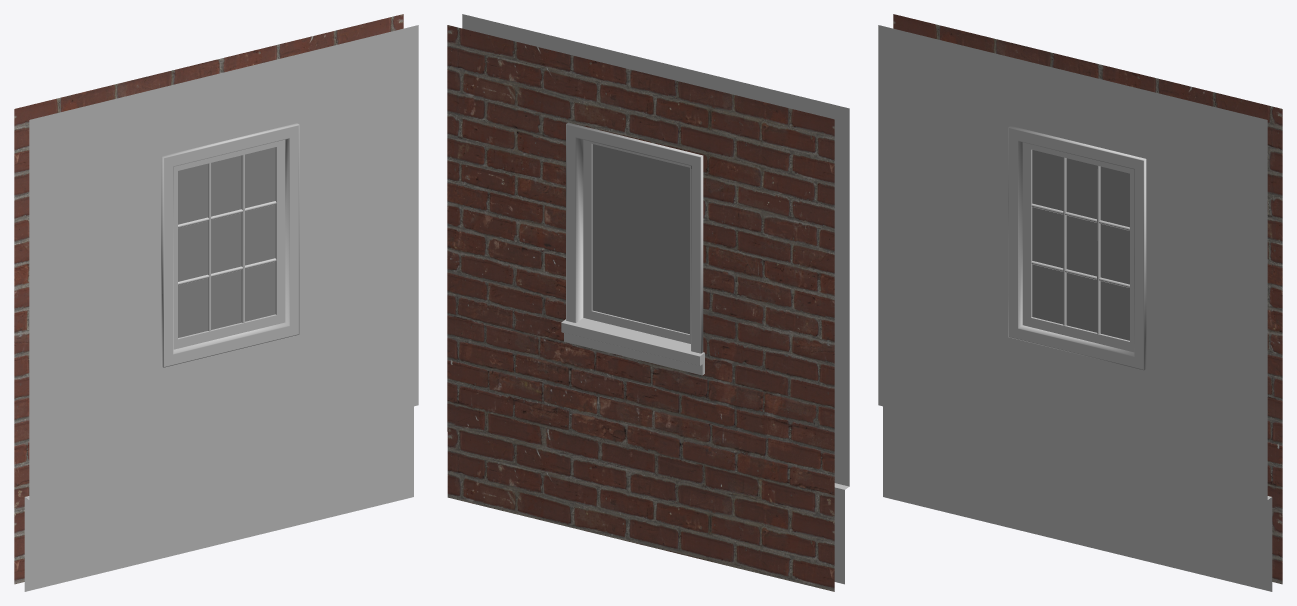
Rendered from In_WallDown_Window_Single_B_3x.FBX.
3 renders of one model, left to right at view 1: azimuth 30°, elevation 25°; view 2: azimuth 150°, elevation 25°; view 3: azimuth 330°, elevation 25°, orthographic.
Visible parts, largest first — view 1: WallDown_Window_Single_B_3x; view 2: WallDown_Window_Single_B_3x; view 3: WallDown_Window_Single_B_3x.
Part boxes in pixels (left/top/right/bottom): WallDown_Window_Single_B_3x: left=14, top=14, right=418, bottom=591; WallDown_Window_Single_B_3x: left=447, top=14, right=849, bottom=591; WallDown_Window_Single_B_3x: left=878, top=14, right=1282, bottom=591.
Size of the model in its own units: 300 by 350 by 29.55.
